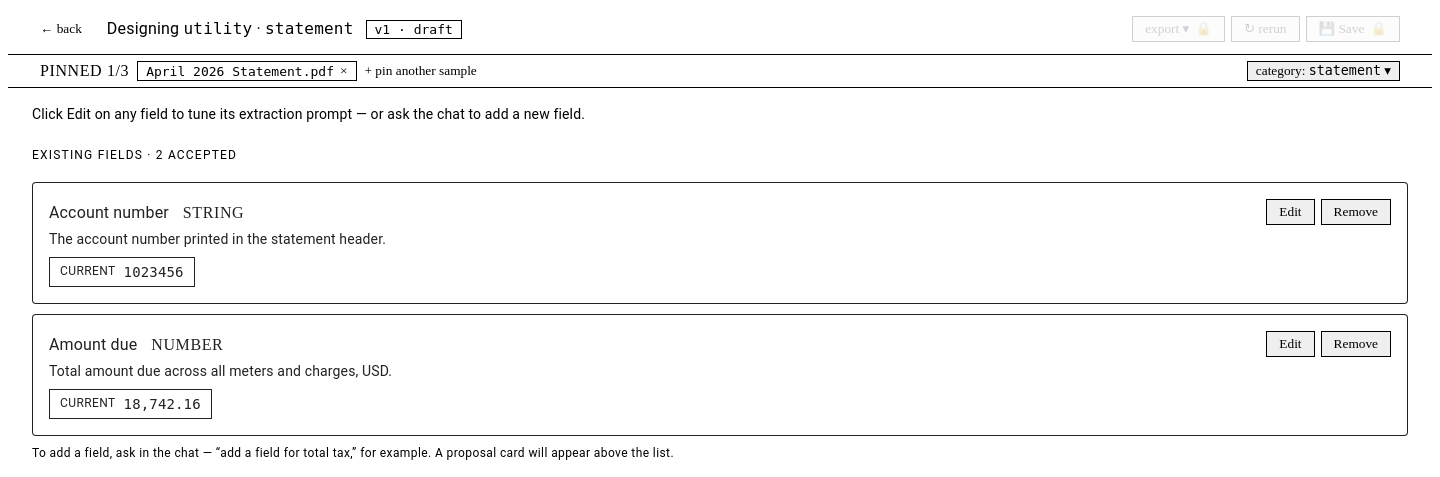
Scenario: SchemaView (UI-01 Phase 1) › topbar Save becomes enabled when there are unsaved changes (Phase 2d)
Expected: the button with test id "extract-topbar-save" is disabled, [1306,16,1400,42]
What coordinates should you click on to do the following:
click the button with test id "schema-remove-field-amount_due"
I would click on:
 (1356, 344)
Its box is [1321,331,1391,357].
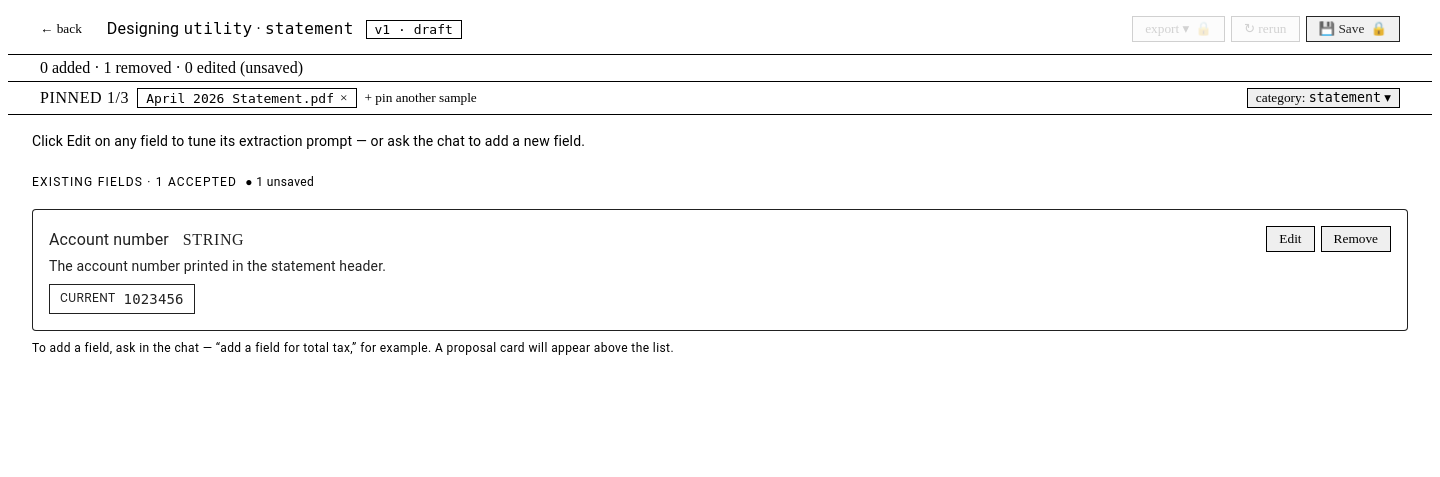
Now the button with test id "extract-topbar-save" is enabled, box [1306,16,1400,42]
